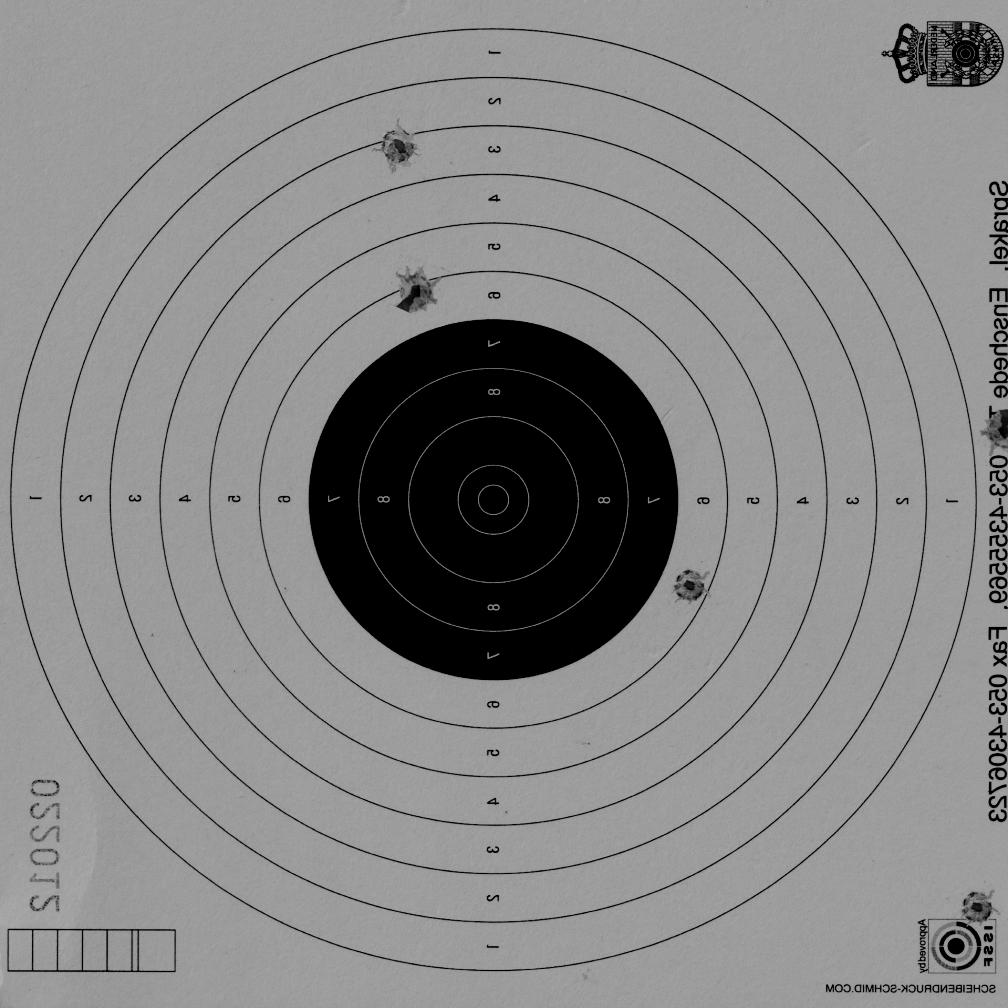0: (962, 886, 1006, 925), (988, 405, 1008, 447)
3: (377, 122, 416, 168)
6: (395, 268, 438, 311), (672, 566, 715, 606)
Target: (6, 25, 980, 975)
black_contour: (308, 319, 680, 681)
